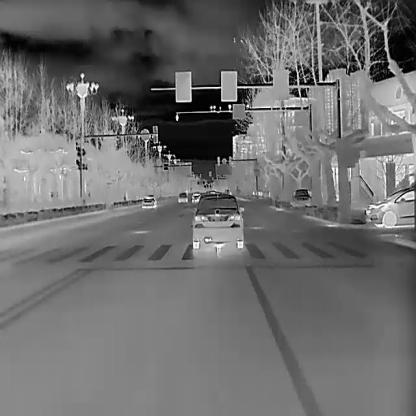car: (193, 195, 243, 249), (365, 186, 415, 228), (292, 188, 310, 206), (141, 194, 156, 209), (178, 192, 188, 202), (191, 192, 200, 202), (209, 190, 215, 197)
